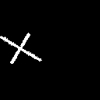single_crochet: (0, 33, 40, 63)
